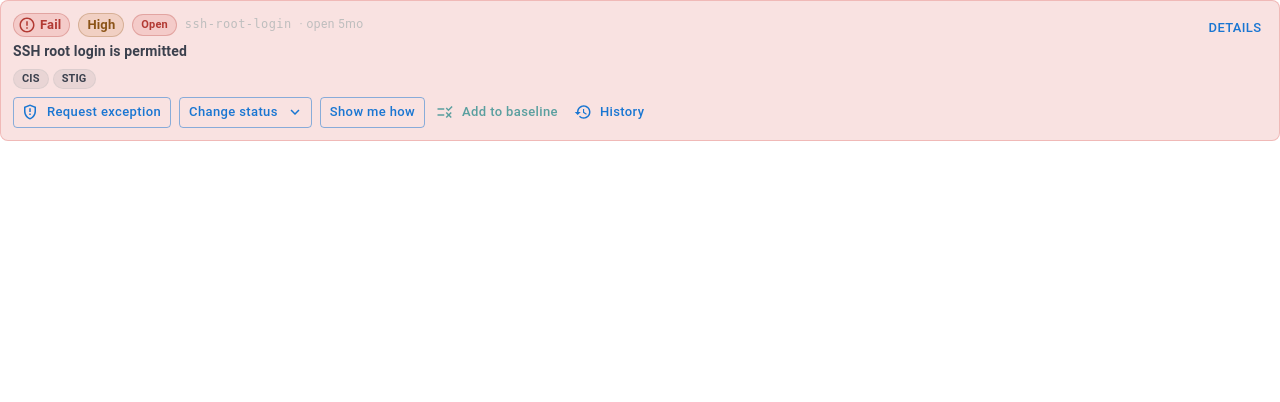
FindingCard (render smoke) › un clic en la línea de frameworks abre Details
The width and height of the screenshot is (1280, 402).
What coordinates should you click on to do the following:
click the button "CIS"
I would click on:
 (31, 79)
Its box is [13,69,49,89].
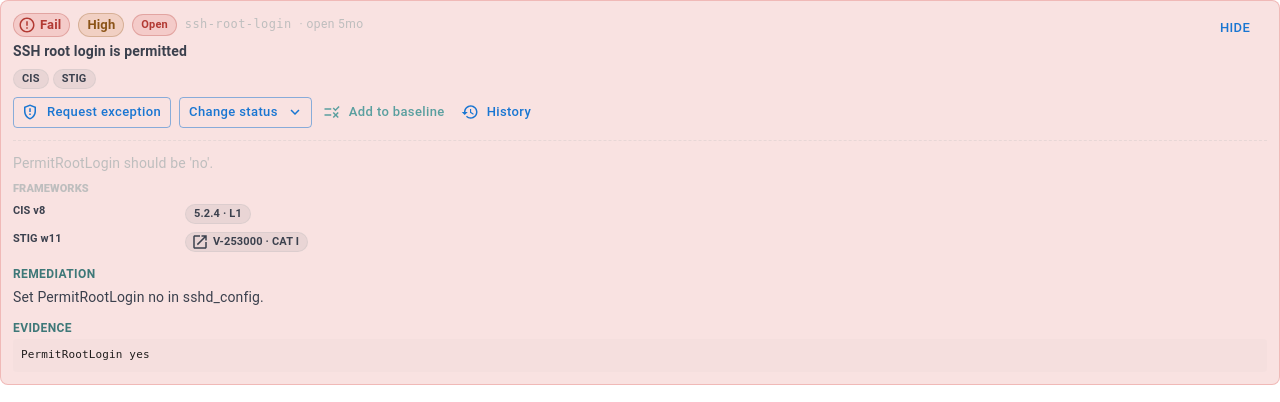
Expected: the text "5.2.4 · L1" is shown, [194,207,242,220]
